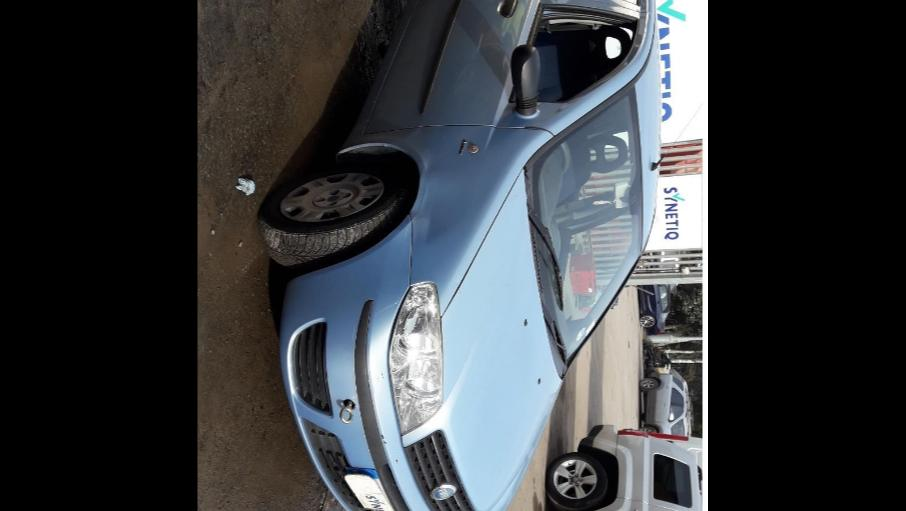Broken part: (408, 210, 414, 288)
Dent: (412, 174, 470, 246), (422, 154, 438, 174)
Missing part: (532, 4, 640, 104)
Paint chip: (380, 434, 384, 438), (396, 458, 398, 464), (384, 440, 386, 444), (382, 376, 384, 378), (382, 372, 382, 374)
Scratch: (380, 300, 398, 312)
